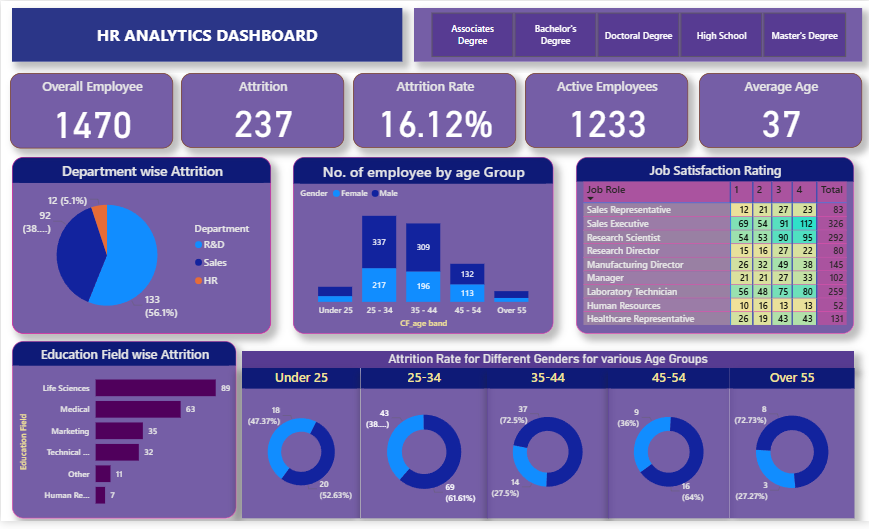

What the dashboard file says about the page in this screenshot:
{"tool":"powerbi","page":{"name":"Page 1","canvas":[1280,765],"ordinal":0},"visuals":[{"type":"card","title":"Overall Employee","fields":{"Values":["Sum(HR data.Employee Count)"]},"box":[12.9,106.4,240,111.4],"z":0,"group":"g2"},{"type":"pieChart","title":"Department wise Attrition","fields":{"Category":["HR data.Department"],"Y":["Sum(HR data.Attrition Count )"]},"box":[15.7,230,381.4,260],"z":0},{"type":"card","title":"Attrition","fields":{"Values":["Sum(HR data.Attrition Count )"]},"box":[264.3,105.7,240,110],"z":1000,"group":"g2"},{"type":"columnChart","title":"No. of employee by age Group ","fields":{"Category":["HR data.CF_age band"],"Y":["Sum(HR data.Employee Count)"],"Series":["HR data.Gender"]},"box":[430,230,382.9,260],"z":1000},{"type":"card","title":"Attrition Rate","fields":{"Values":["HR data.Attrition Rate"]},"box":[517.2,105.7,240,110],"z":2000,"group":"g2"},{"type":"pivotTable","title":"Job Satisfaction Rating ","fields":{"Rows":["HR data.Job Role"],"Columns":["HR data.Job Satisfaction"],"Values":["Sum(HR data.Employee Count)"]},"box":[845.7,230,408.6,260],"z":2000},{"type":"card","title":"Active Employees ","fields":{"Values":["HR data.Active Employees"]},"box":[770,105.7,240,110],"z":3000,"group":"g2"},{"type":"barChart","title":"Education Field wise Attrition","fields":{"Category":["HR data.Education Field"],"Y":["Sum(HR data.Attrition Count )"]},"box":[15.7,500,330,261.4],"z":3000},{"type":"card","title":"Average Age ","fields":{"Values":["Avg(HR data.Age)"]},"box":[1025.8,105.7,240,110],"z":4000,"group":"g2"},{"type":"textbox","title":"Attrition Rate for Different Genders for various Age Groups ","box":[354.3,514.3,900,25.7],"z":4000},{"type":"textbox","title":"HR ANALYTICS DASHBOARD ","box":[15.7,10,574.3,78.6],"z":5000},{"type":"slicer","fields":{"Values":["HR data.Education"]},"box":[607.1,10,658.6,78.6],"z":6000},{"type":"group","id":"g1","title":"Group 1","box":[354.3,540,900,221.4],"z":7000},{"type":"group","id":"g2","title":"Group 2","box":[12.9,105.7,1252.9,111.4],"z":8000},{"type":"donutChart","title":"Under 25","fields":{"Category":["HR data.Gender"],"Y":["Sum(HR data.Attrition Count )"],"Series":["HR data.CF_age band"]},"box":[354.3,540,174.3,221.4],"z":9000,"group":"g1"},{"type":"donutChart","title":"25-34","fields":{"Category":["HR data.Gender"],"Y":["Sum(HR data.Attrition Count )"],"Series":["HR data.CF_age band"]},"box":[528.6,540,185.7,221.4],"z":10000,"group":"g1"},{"type":"donutChart","title":"35-44","fields":{"Category":["HR data.Gender"],"Y":["Sum(HR data.Attrition Count )"],"Series":["HR data.CF_age band"]},"box":[714.3,540,178.6,221.4],"z":11000,"group":"g1"},{"type":"donutChart","title":"45-54","fields":{"Category":["HR data.Gender"],"Y":["Sum(HR data.Attrition Count )"],"Series":["HR data.CF_age band"]},"box":[892.9,540,178.6,221.4],"z":12000,"group":"g1"},{"type":"donutChart","title":"Over 55","fields":{"Category":["HR data.Gender"],"Y":["Sum(HR data.Attrition Count )"],"Series":["HR data.CF_age band"]},"box":[1071.4,540,182.9,221.4],"z":13000,"group":"g1"}]}

Visuals, with their boxes in screenshot pixels (x1, y1, x2, y2), scaled from the page's 1280x765 canvas onto the 869x529 screenshot:
"Overall Employee" card: 9/74/172/151
"Department wise Attrition" pieChart: 11/159/270/339
"Attrition" card: 179/73/342/149
"No. of employee by age Group " columnChart: 292/159/552/339
"Attrition Rate" card: 351/73/514/149
"Job Satisfaction Rating " pivotTable: 574/159/852/339
"Active Employees " card: 523/73/686/149
"Education Field wise Attrition" barChart: 11/346/235/527
"Average Age " card: 696/73/859/149
"Attrition Rate for Different Genders for various Age Groups " textbox: 241/356/852/373
"HR ANALYTICS DASHBOARD " textbox: 11/7/401/61
slicer - HR data.Education: 412/7/859/61
"Group 1" group: 241/373/852/527
"Group 2" group: 9/73/859/150
"Under 25" donutChart: 241/373/359/527
"25-34" donutChart: 359/373/485/527
"35-44" donutChart: 485/373/606/527
"45-54" donutChart: 606/373/727/527
"Over 55" donutChart: 727/373/852/527
